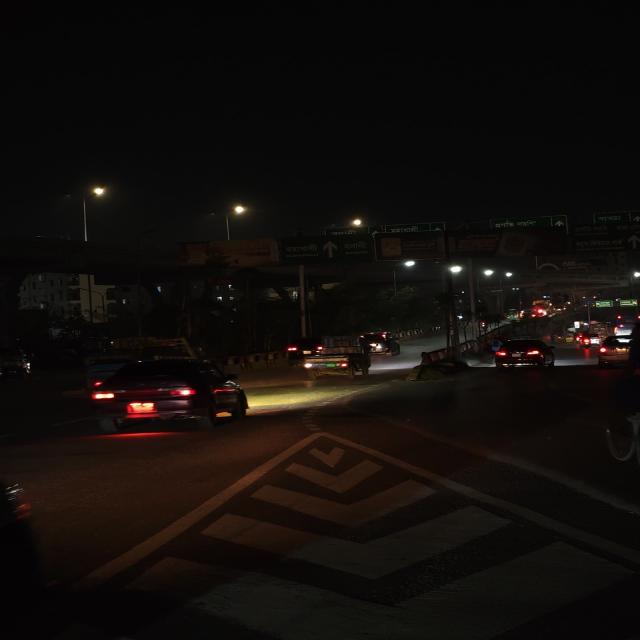car: (95, 360, 247, 431), (492, 336, 552, 373), (593, 334, 633, 366), (374, 332, 400, 358)
cng: (506, 308, 519, 322)
motorcycle: (580, 333, 591, 349)
pickup_van: (303, 336, 374, 382)
